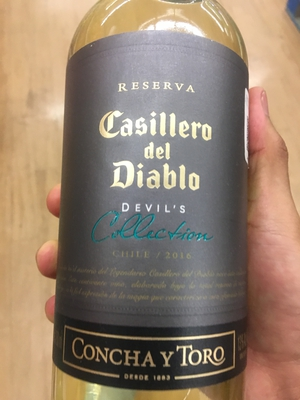casillero del diablo devils collection verde: (53, 2, 250, 400)
